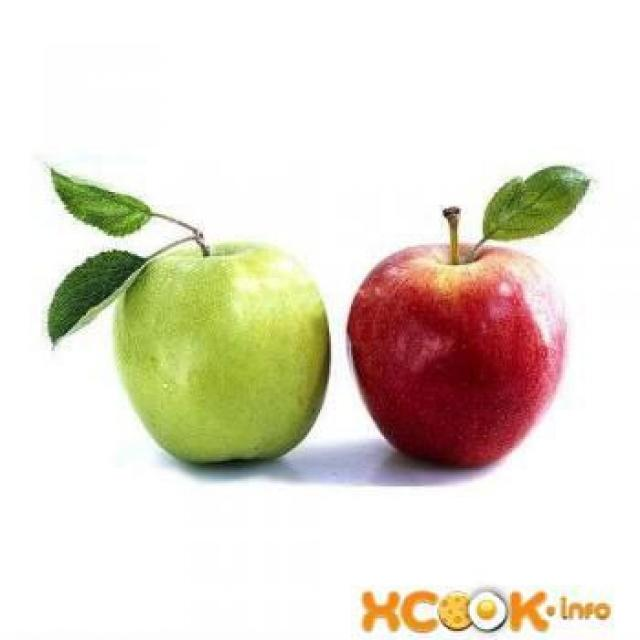fresh_apple: (346, 244, 570, 465), (116, 240, 328, 466)
